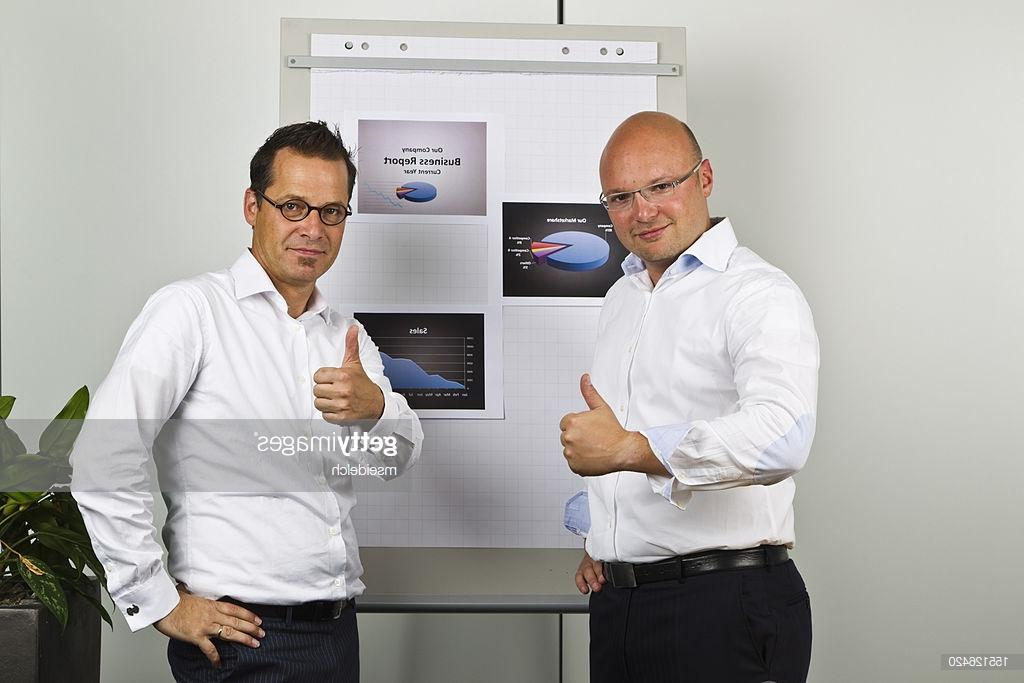thumbsup: (559, 373, 612, 477), (312, 324, 362, 427)
